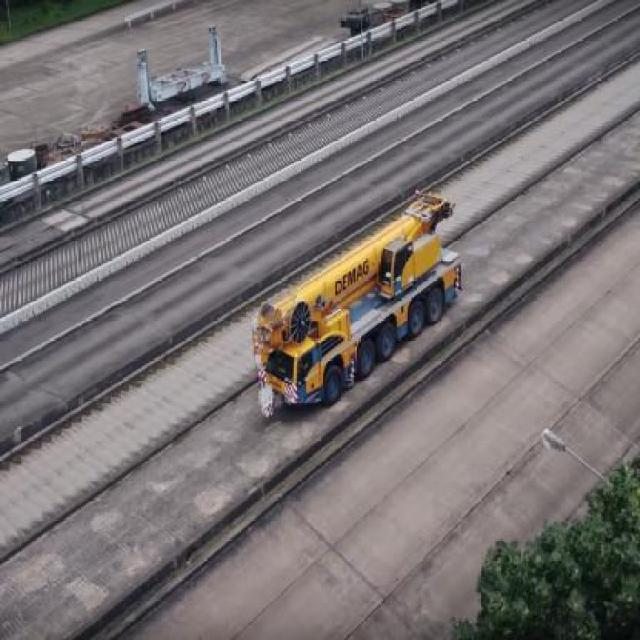Mobile Crane: (252, 194, 460, 420)
